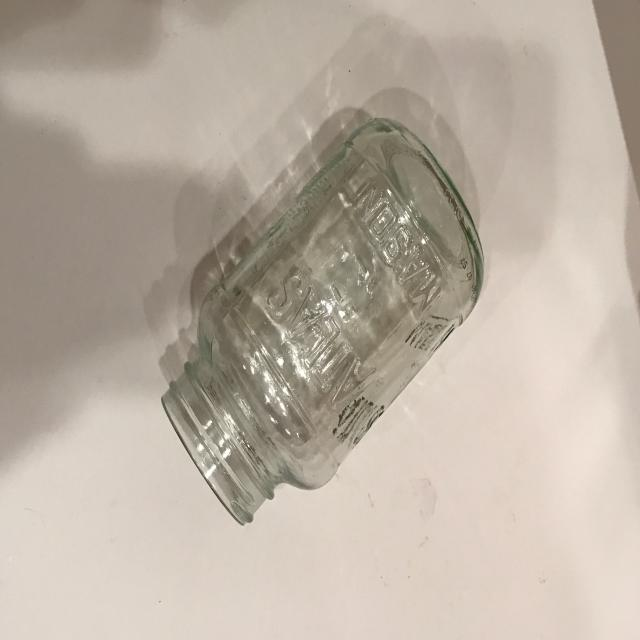glass: (157, 117, 486, 526)
